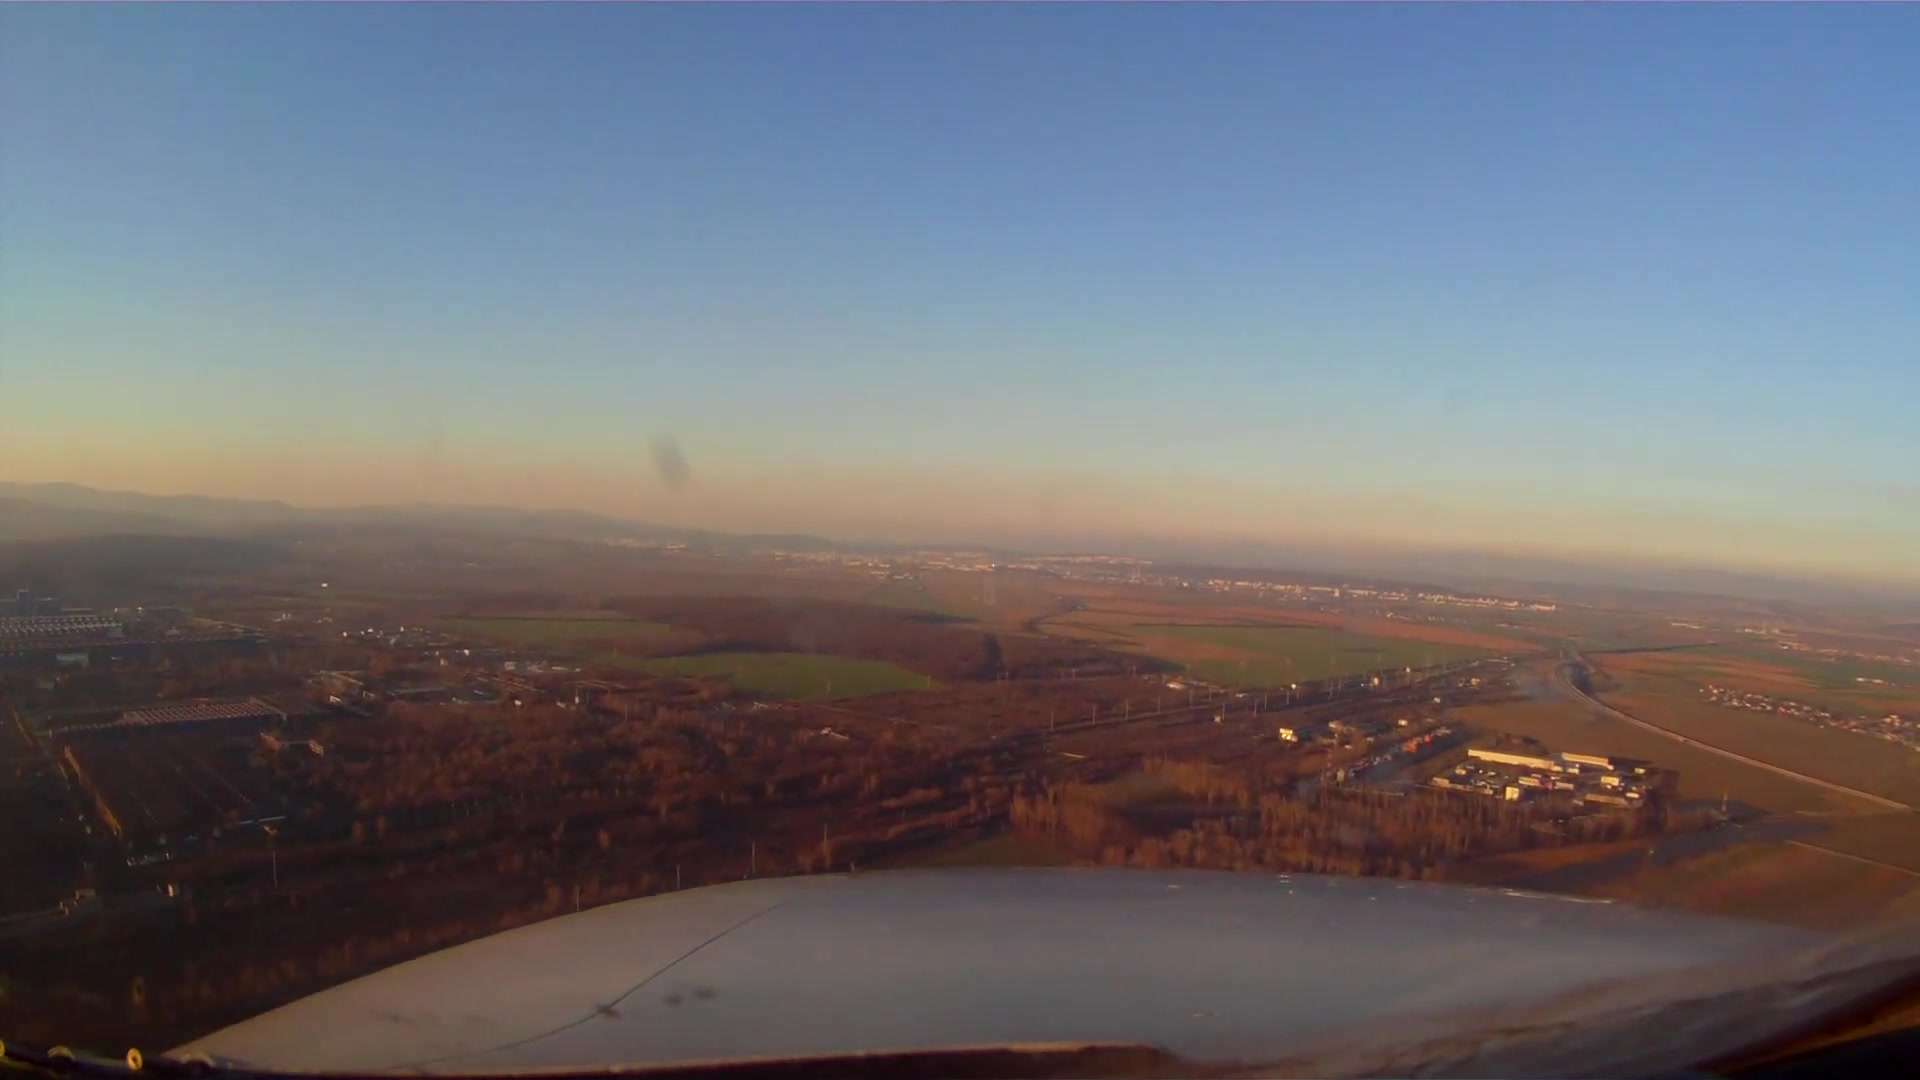runway: (980, 578, 996, 607)
